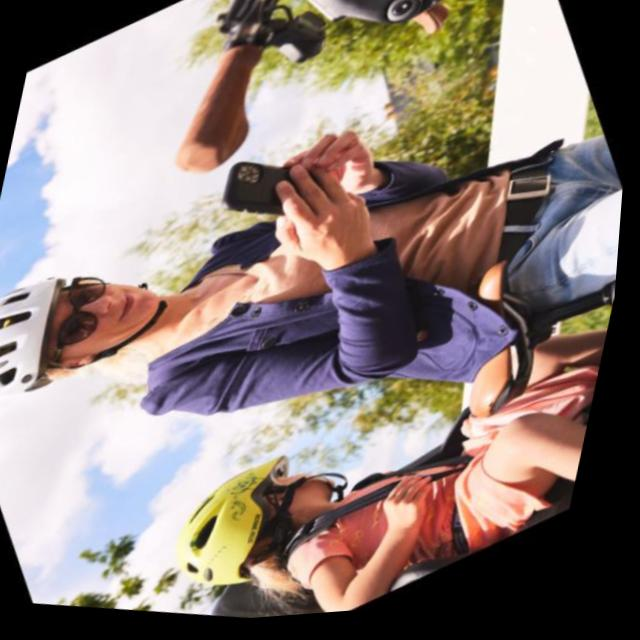USING_MOBILE: (0, 65, 471, 596)
